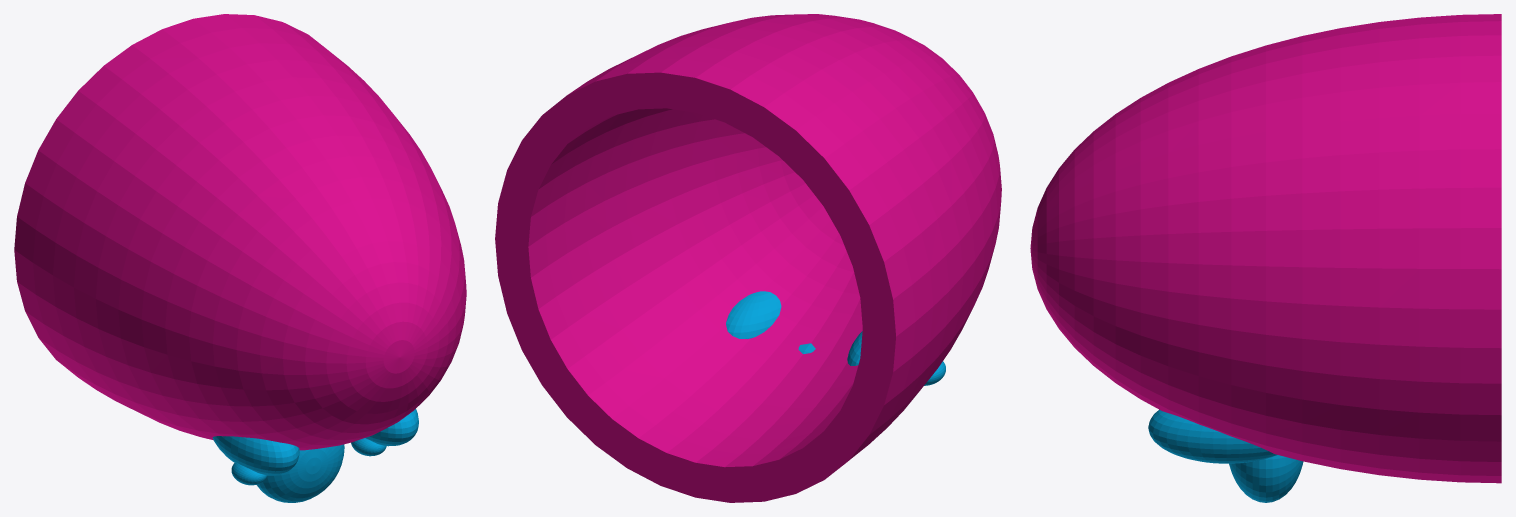
Rendered from tinker.obj.
The picture shows the model from 3 angles, left to right: view 1: azimuth 30°, elevation 25°; view 2: azimuth 150°, elevation 25°; view 3: azimuth 270°, elevation 25°; orthographic projection. The views are drawn at different scales.
Visible parts, largest first — view 1: group_0_14093196, group_0_40919; view 2: group_0_14093196, group_0_40919; view 3: group_0_14093196, group_0_40919.
Part boxes in pixels (left/top/right/bottom): group_0_14093196: left=14, top=14, right=466, bottom=450; group_0_40919: left=212, top=409, right=418, bottom=502; group_0_14093196: left=495, top=14, right=1001, bottom=502; group_0_40919: left=726, top=291, right=945, bottom=385; group_0_14093196: left=1030, top=14, right=1501, bottom=483; group_0_40919: left=1148, top=409, right=1303, bottom=502.
Bounding box in the file's own units: 12 × 13 × 12.
